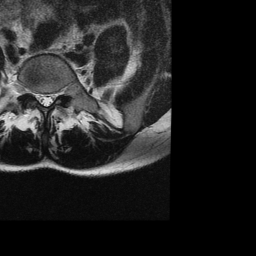CCS_severe_stenosis: (42, 86, 49, 113)
LFS_stenosis: (56, 81, 64, 103)
LLS_normal: (49, 85, 56, 108)
RFS_stenosis: (29, 80, 36, 103)
RLS_normal: (36, 86, 43, 108)
